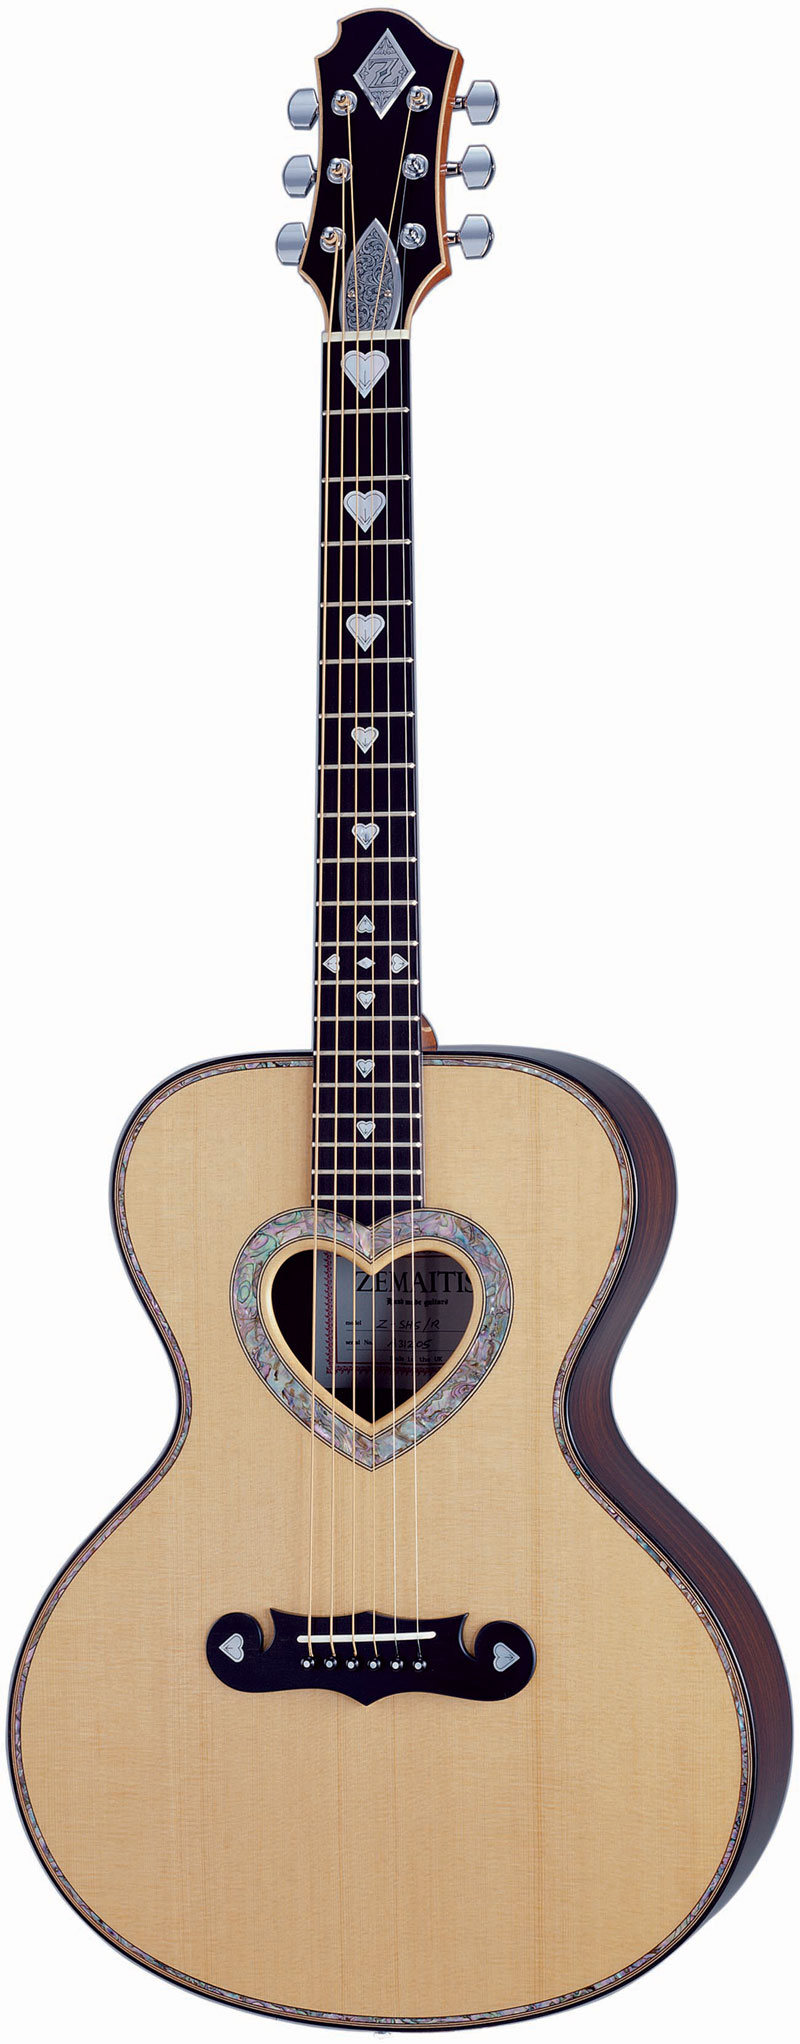guitar: (7, 8, 800, 2030)
